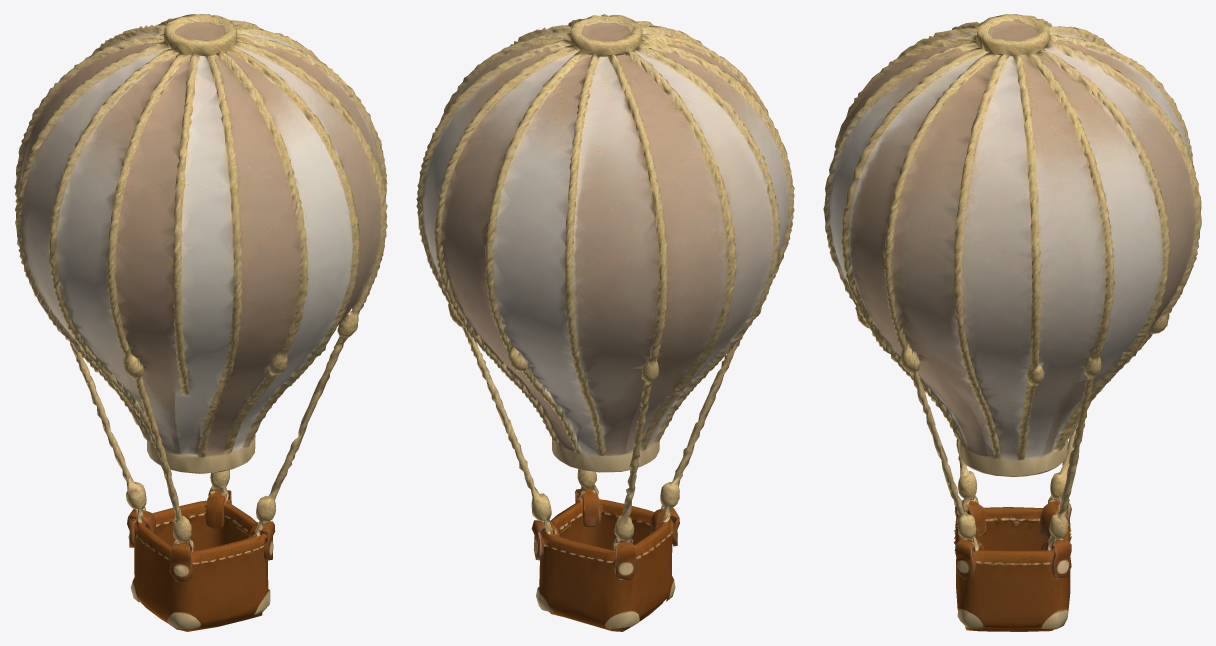
File: balloon.glb
3 renders of one model, left to right at view 1: azimuth 30°, elevation 25°; view 2: azimuth 150°, elevation 25°; view 3: azimuth 270°, elevation 25°, orthographic.
Bounding box in the file's own units: 1.17 × 2 × 1.17.
1 material, 1 textured.
